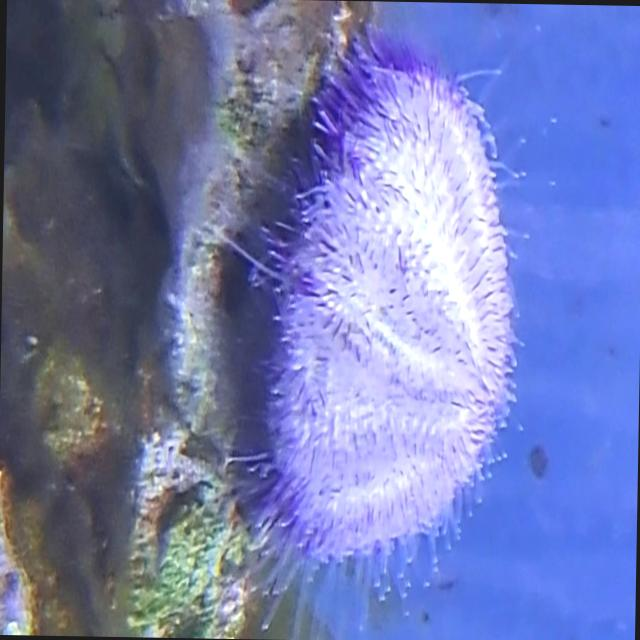Deniz Kestanesi: (213, 25, 553, 640)
